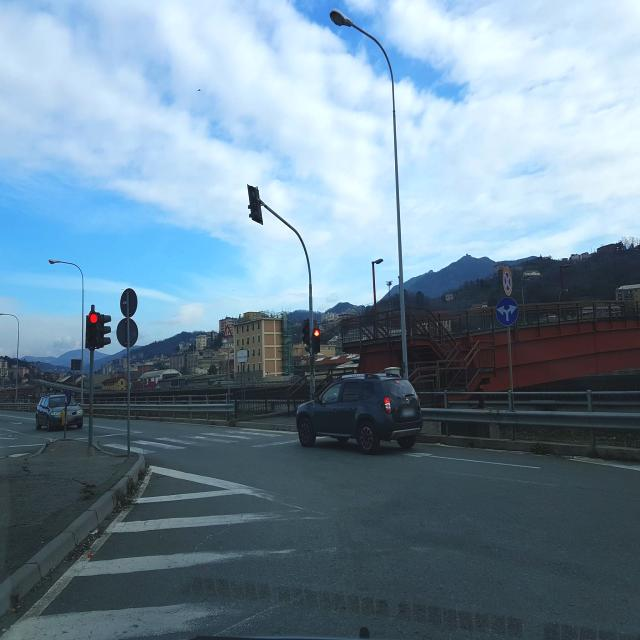car: (296, 372, 424, 453), (35, 392, 84, 432)
